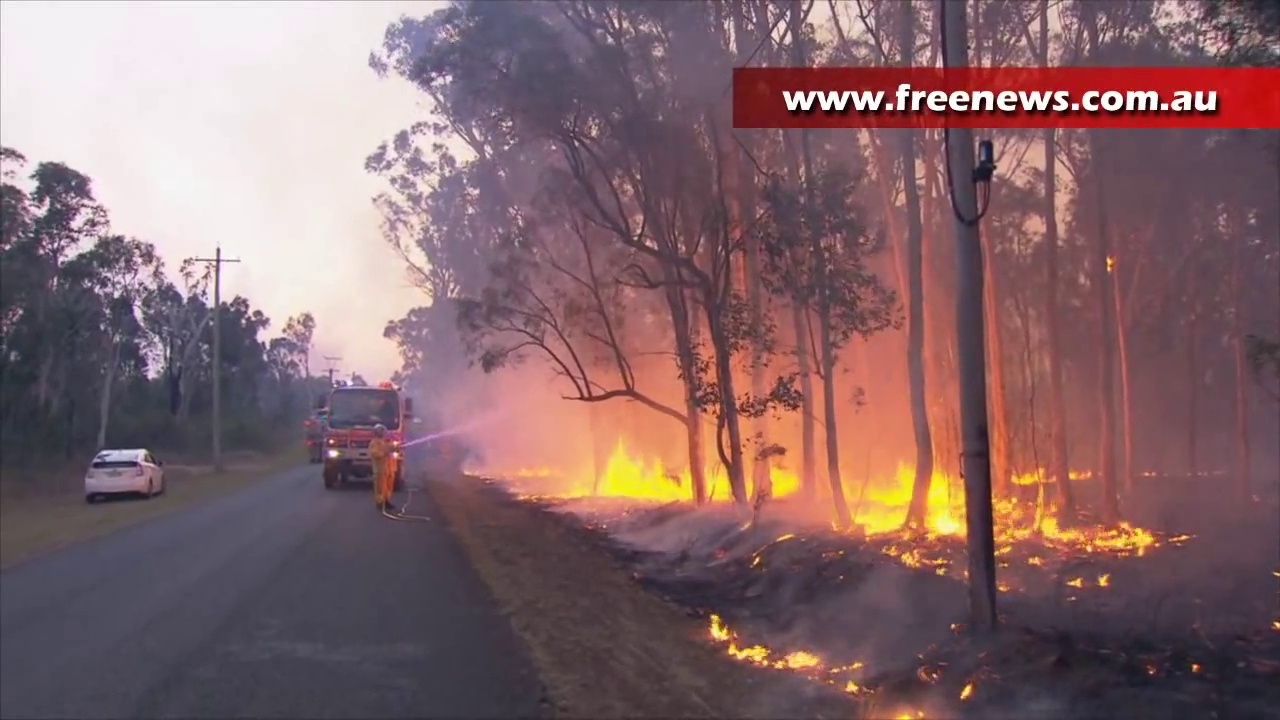fire: (998, 499, 1144, 557), (859, 464, 964, 543), (706, 615, 817, 673), (597, 451, 679, 499)
